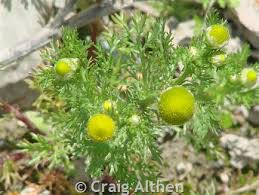pineple: (111, 43, 229, 137)
